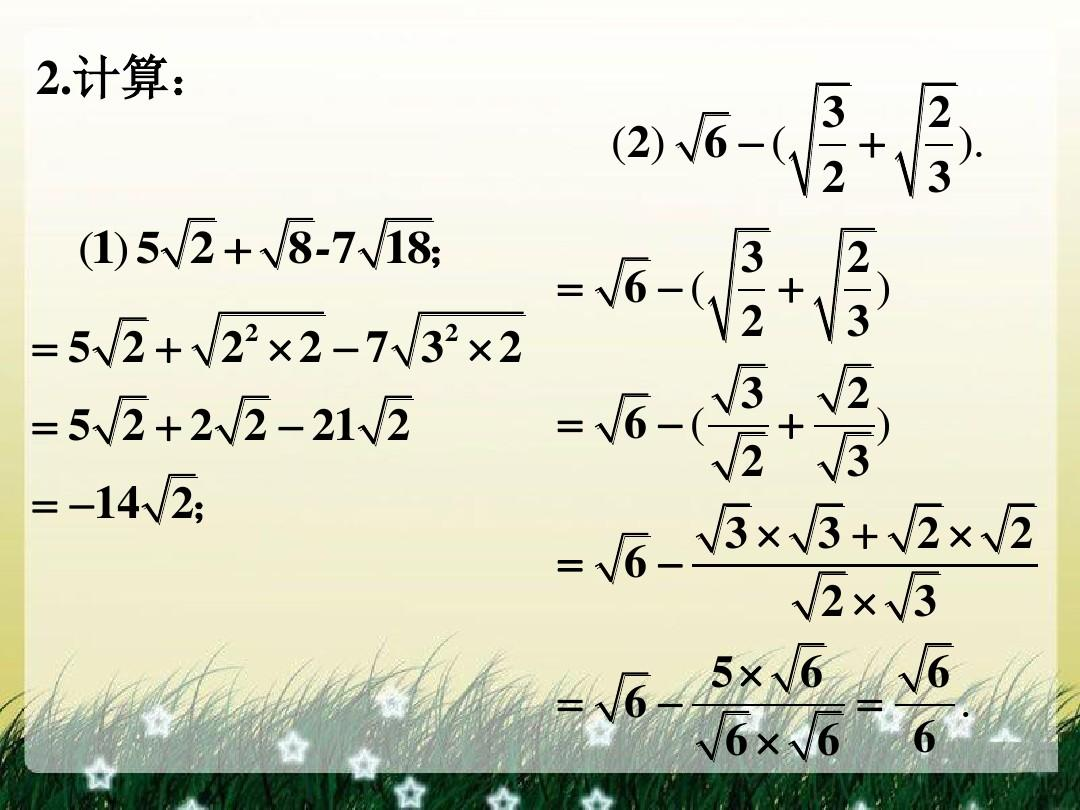division: (694, 556, 1040, 572), (690, 698, 846, 713), (894, 696, 963, 716), (709, 419, 768, 431), (812, 421, 881, 431), (925, 134, 957, 152), (818, 140, 847, 153), (734, 284, 768, 295), (841, 283, 874, 294)
sqrt: (401, 303, 534, 380), (794, 71, 853, 203), (896, 75, 957, 201), (821, 222, 883, 345), (710, 224, 769, 349), (194, 309, 322, 360), (978, 495, 1047, 558), (591, 521, 658, 585), (146, 469, 213, 532), (367, 214, 435, 273), (887, 493, 949, 557), (825, 357, 886, 419), (779, 626, 825, 705), (902, 637, 961, 697), (270, 199, 315, 274), (900, 569, 960, 625), (217, 387, 274, 444), (96, 393, 156, 447), (599, 249, 653, 308), (361, 394, 414, 453), (102, 314, 157, 370), (800, 567, 850, 628), (171, 212, 220, 271), (832, 430, 881, 489), (797, 500, 846, 556), (717, 360, 763, 418), (682, 109, 734, 160), (604, 660, 647, 721), (707, 707, 753, 764), (605, 392, 655, 444), (804, 711, 847, 757)
